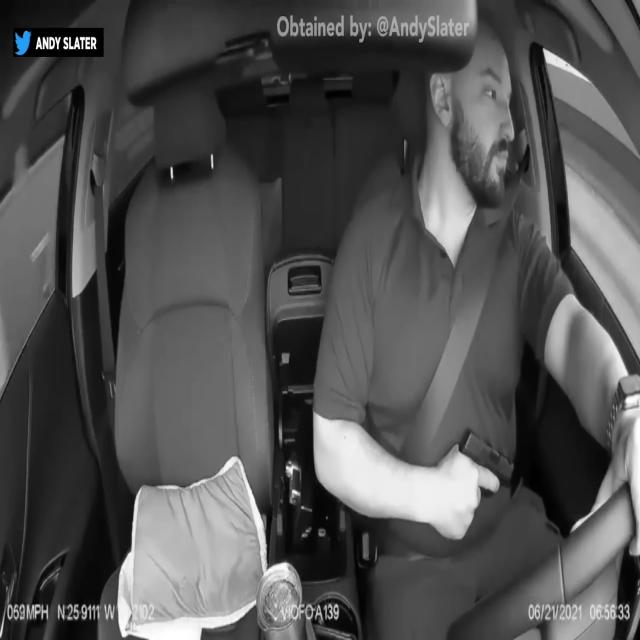senjata_api: (458, 426, 516, 499)
